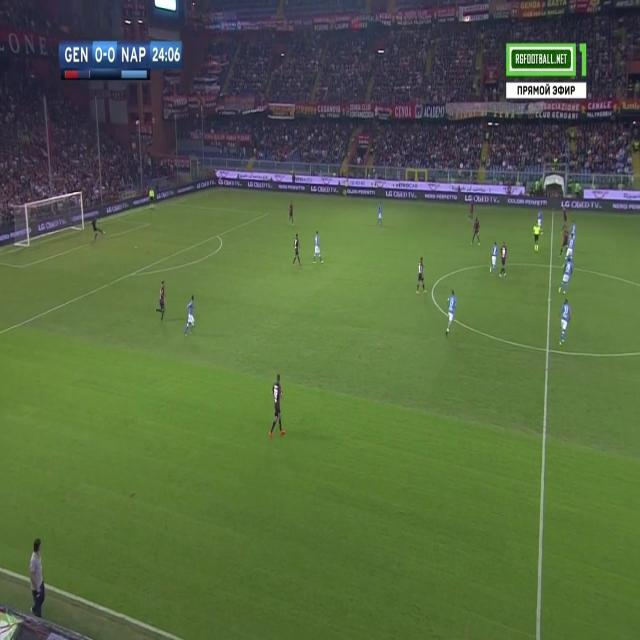Goalkeeper: (90, 213, 106, 247)
Player: (266, 369, 288, 442), (442, 285, 459, 339), (182, 293, 198, 343), (558, 298, 572, 349), (310, 227, 326, 270), (557, 257, 574, 297), (413, 252, 428, 297), (154, 279, 167, 325), (488, 238, 500, 276), (562, 229, 575, 264), (499, 239, 509, 283), (290, 232, 302, 268), (558, 222, 570, 258), (469, 216, 482, 249), (286, 198, 296, 228), (375, 197, 384, 227), (466, 199, 476, 223)
Referee: (530, 220, 543, 253), (147, 186, 157, 212)
